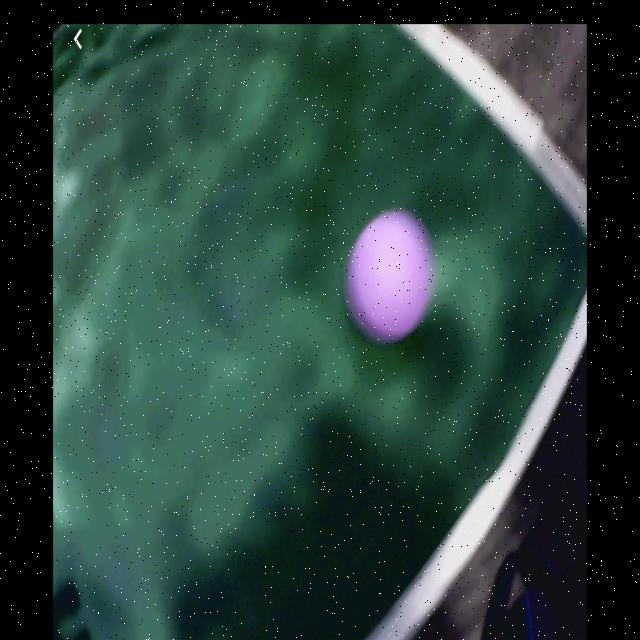ball: (348, 208, 437, 341)
